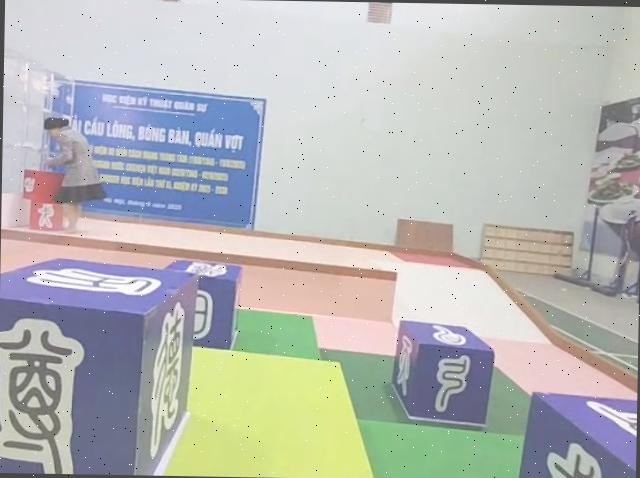R2 Fake Blue: (0, 253, 196, 475), (390, 319, 495, 428), (509, 390, 637, 478), (160, 257, 244, 352)
